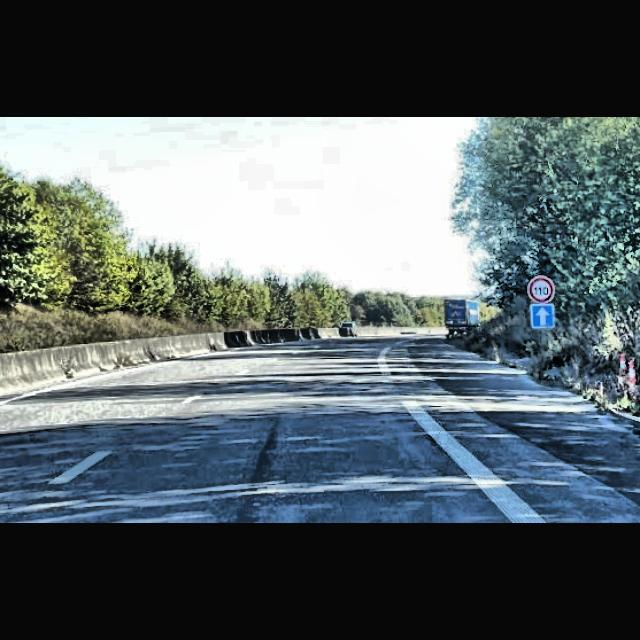speed_110: (528, 277, 554, 303)
